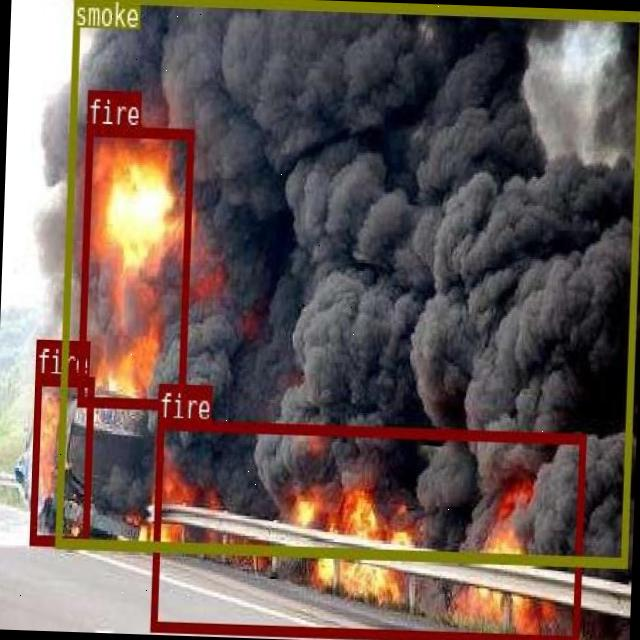fire: (149, 417, 585, 640), (76, 124, 193, 408), (29, 373, 93, 544)
smoke: (53, 0, 640, 564)
